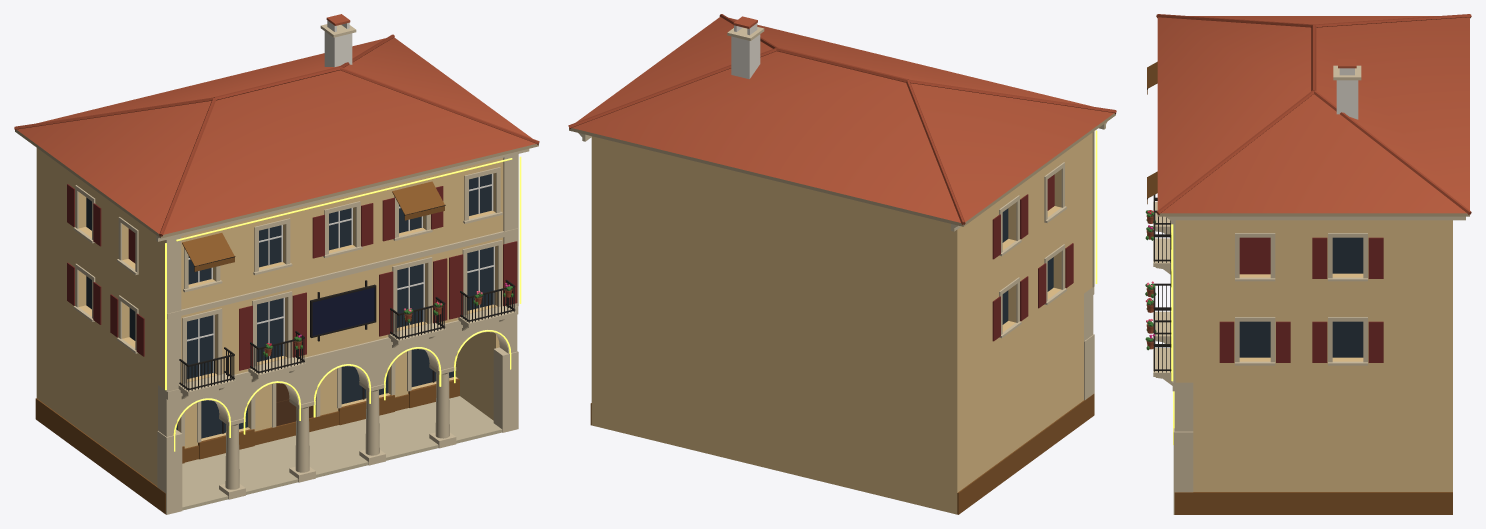
3 views of the same model, side by side, from view 1: azimuth 30°, elevation 25°; view 2: azimuth 150°, elevation 25°; view 3: azimuth 270°, elevation 25° (orthographic). The views are drawn at different scales.
Parts seen in each view (by area): view 1: agents.lod0; view 2: agents.lod0; view 3: agents.lod0.
Part boxes in pixels (x1,y1,x2,y2): agents.lod0: (14, 14, 539, 514); agents.lod0: (568, 14, 1116, 514); agents.lod0: (1145, 14, 1471, 514).
Bounding box in the file's own units: 15.2 × 14.31 × 10.55.
